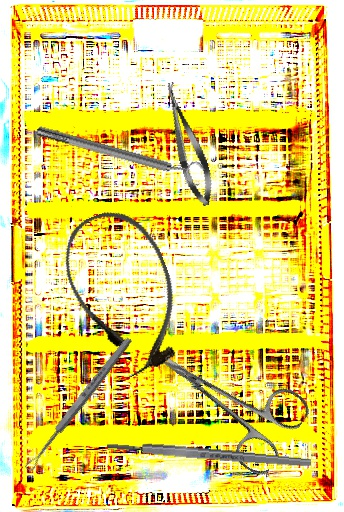Cannula: (50, 198, 199, 386)
Fixation Ring: (33, 116, 207, 190)
Iris Scissors: (137, 318, 315, 480)
Micro Scissor: (156, 78, 220, 210)
Scalpel Handle: (106, 439, 312, 470)
Surgical Spoon: (23, 335, 134, 473)
